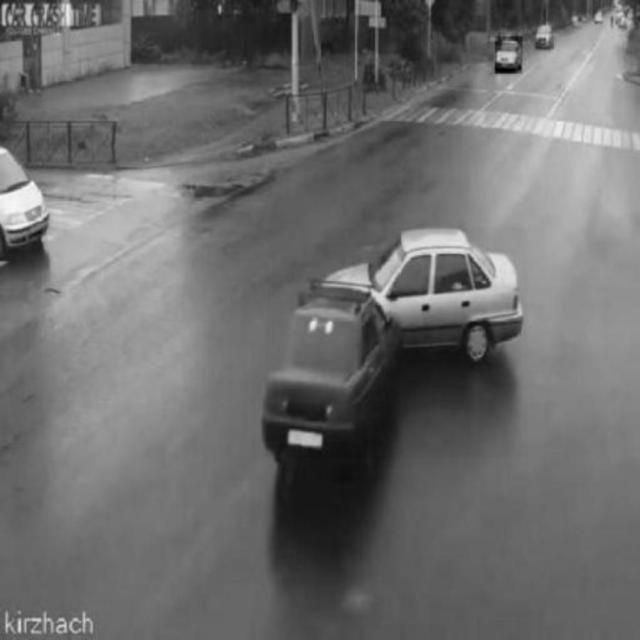accident: (267, 228, 528, 458)
vehicle: (495, 37, 522, 74)
